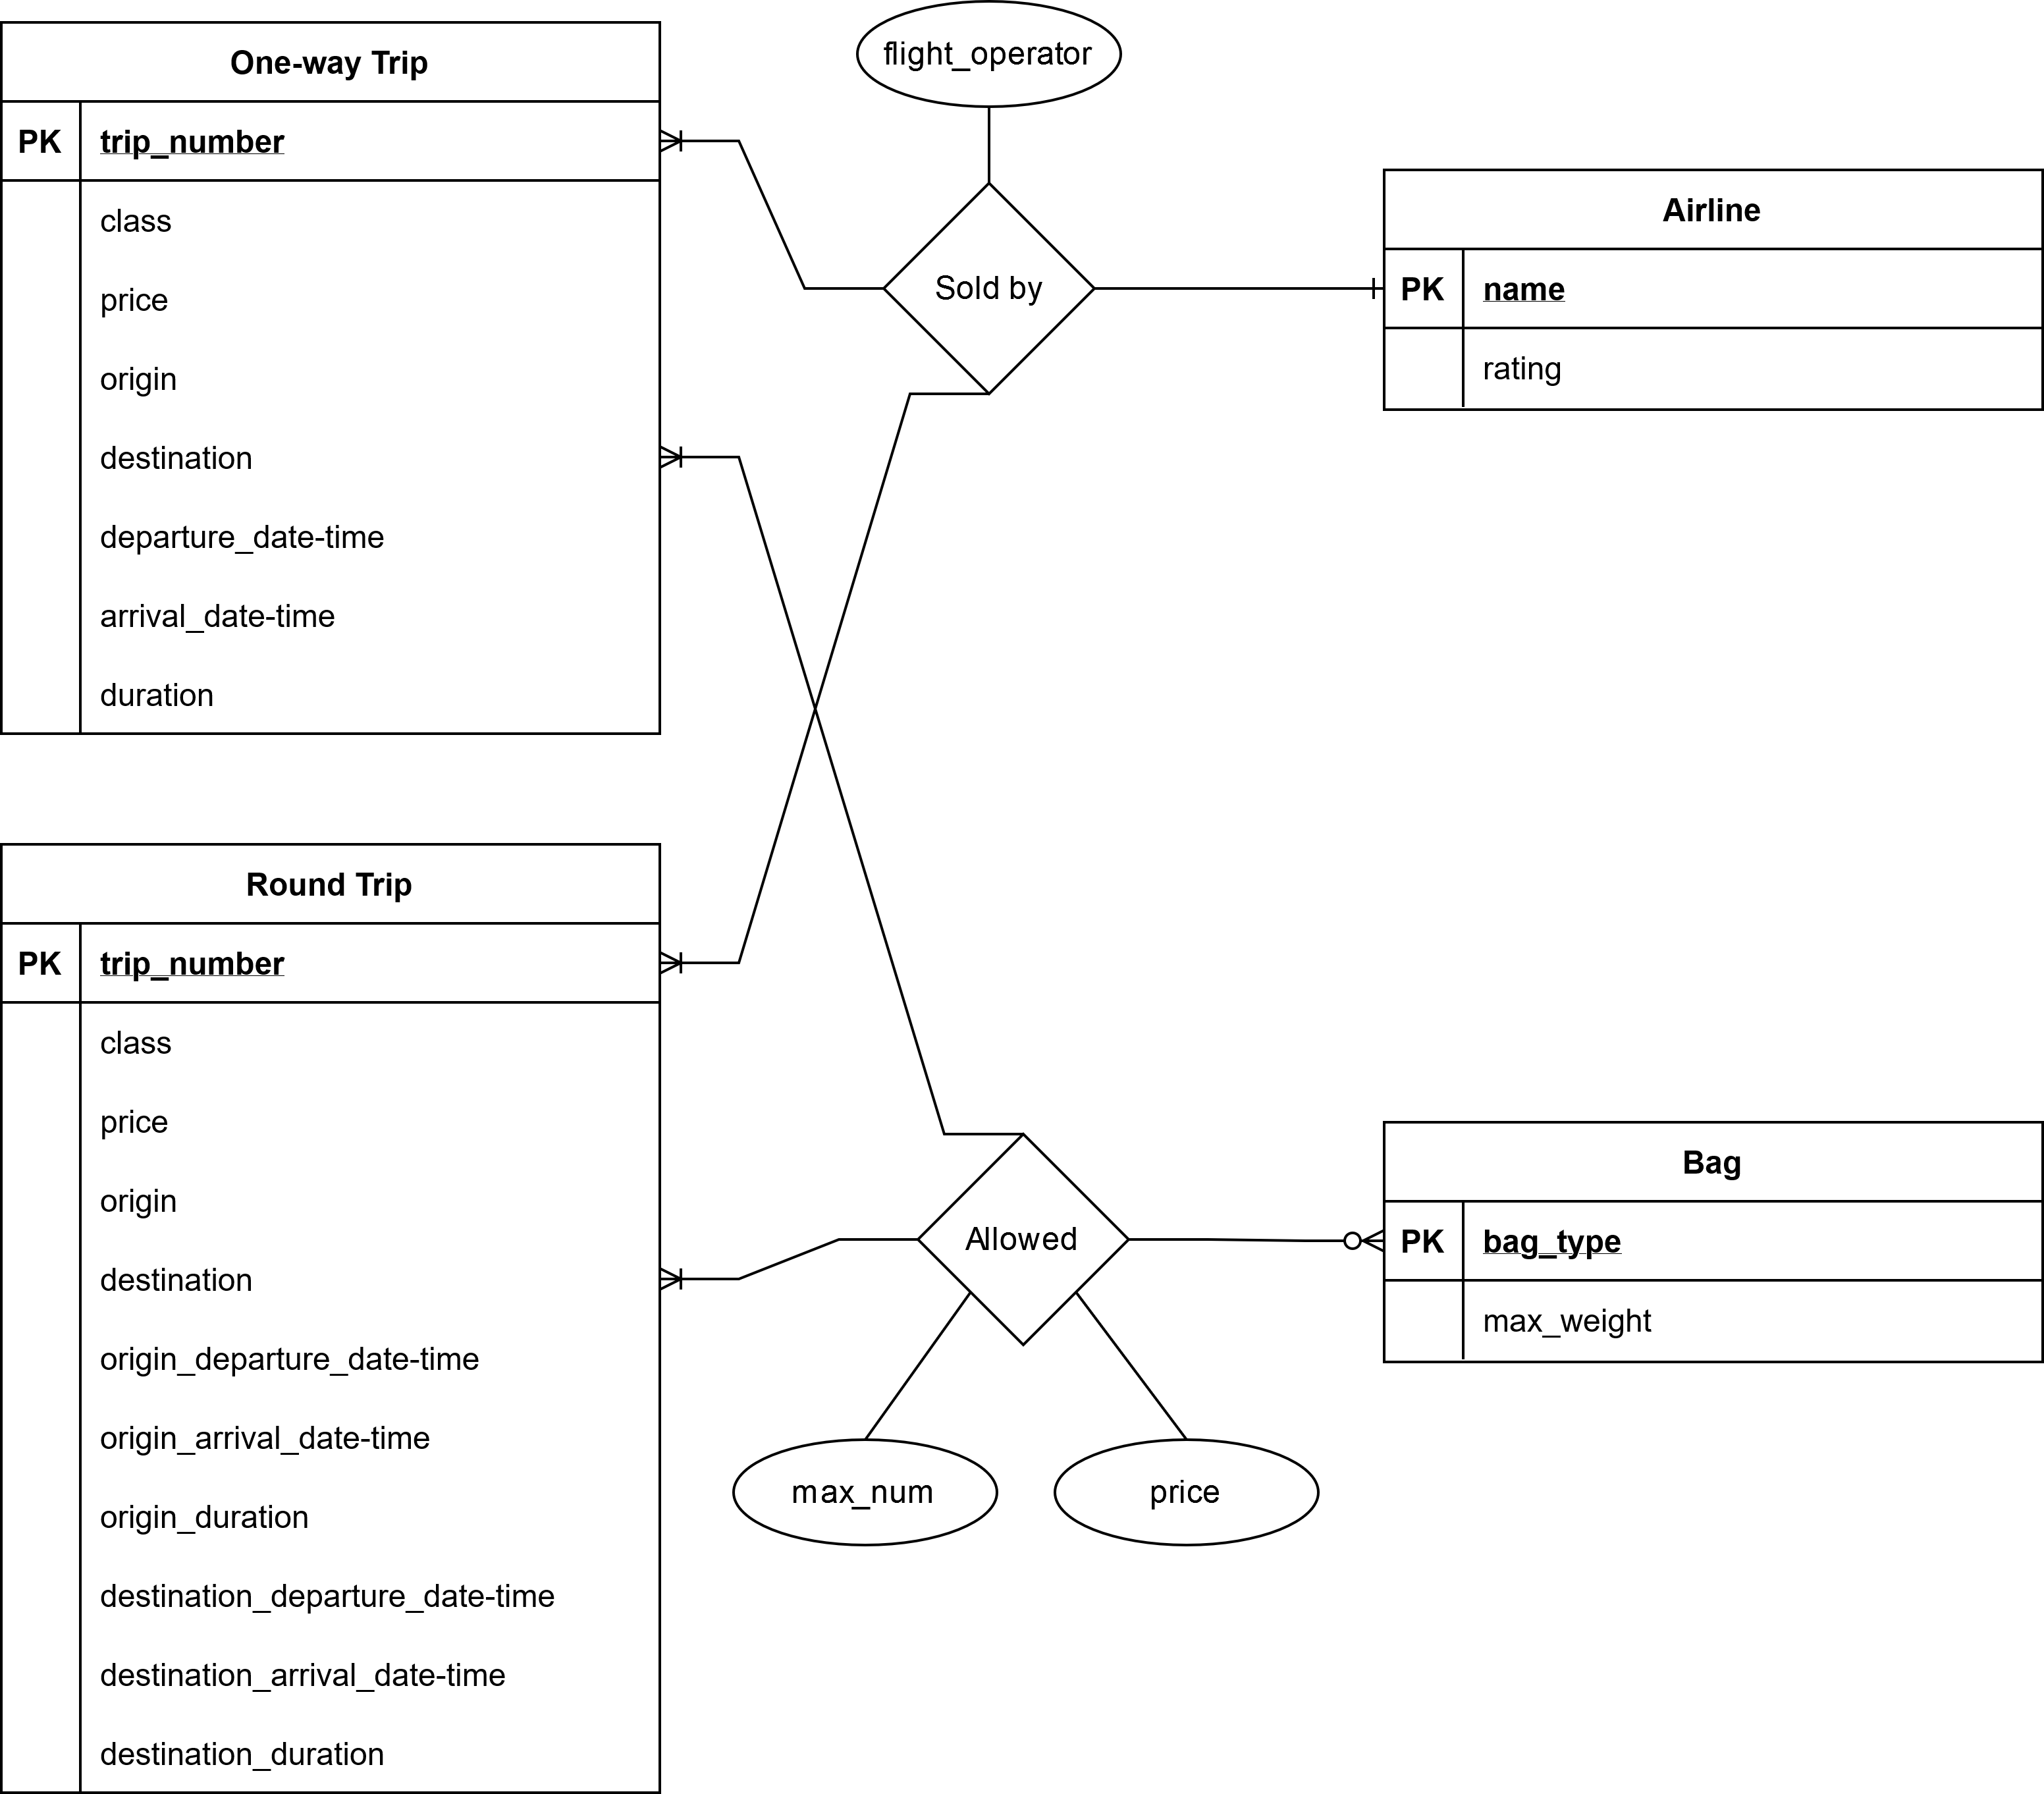entity: (3, 845, 662, 1794), (0, 19, 666, 739), (1384, 169, 2044, 414), (1380, 1121, 2044, 1361)
many: (660, 123, 737, 160), (1295, 1229, 1384, 1259), (657, 443, 739, 473), (659, 951, 737, 980), (660, 1264, 737, 1293)
one: (1323, 276, 1385, 302)
rel: (918, 1137, 1131, 1349), (892, 184, 1093, 396)
rel_attr: (1053, 1436, 1323, 1547), (860, 0, 1121, 106), (735, 1439, 994, 1545)
